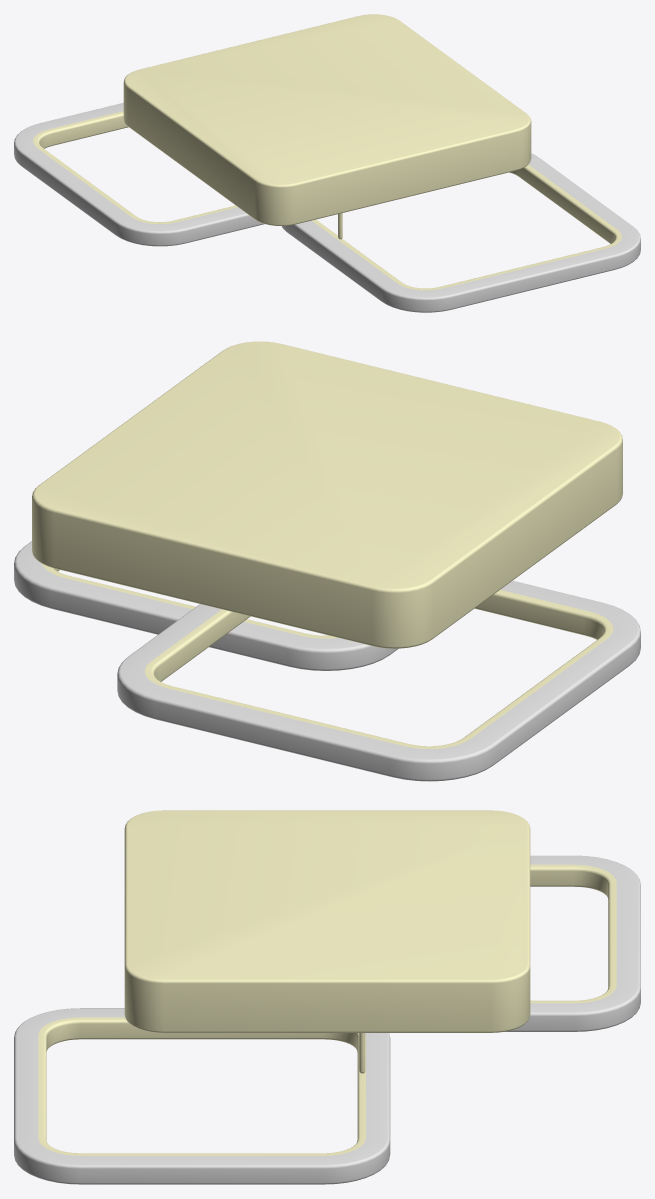
File: Ceiling Lamp.fbx
The picture shows the model from 3 angles, top to bottom: view 1: azimuth 30°, elevation 25°; view 2: azimuth 150°, elevation 25°; view 3: azimuth 270°, elevation 25°; orthographic projection. The views are drawn at different scales.
Parts seen in each view (by area): view 1: LIGHT2-SUPPORT3; view 2: LIGHT2-SUPPORT3; view 3: LIGHT2-SUPPORT3.
Boxes of the visible parts, left/top/right/bottom form: LIGHT2-SUPPORT3: left=14, top=14, right=640, bottom=312; LIGHT2-SUPPORT3: left=14, top=341, right=640, bottom=781; LIGHT2-SUPPORT3: left=14, top=810, right=640, bottom=1184.
Bounding box in the file's own units: 1.89 × 0.5265 × 1.89.
